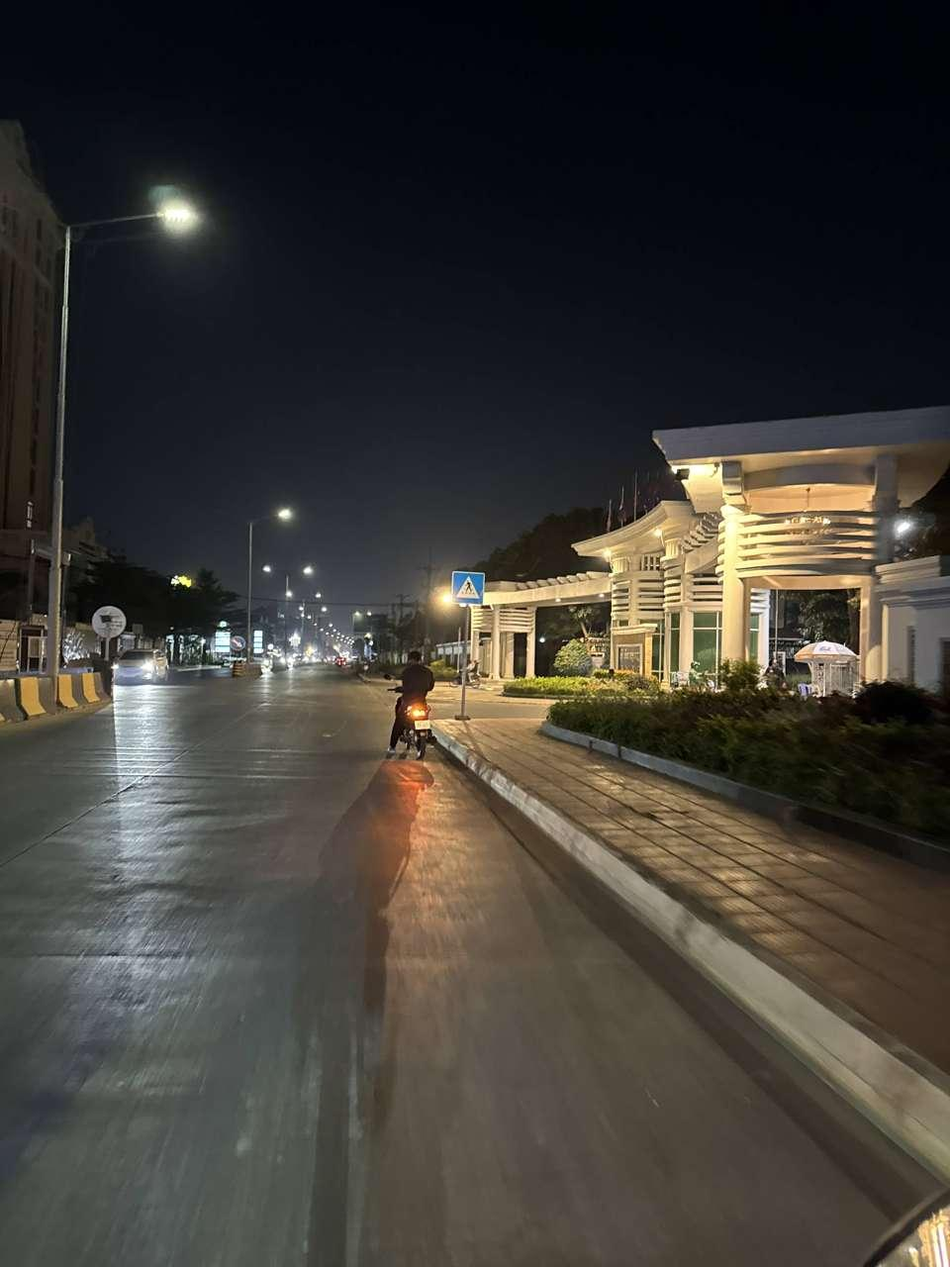keep_right: (230, 635, 246, 652)
pedestrian_crossing: (451, 570, 485, 606)
